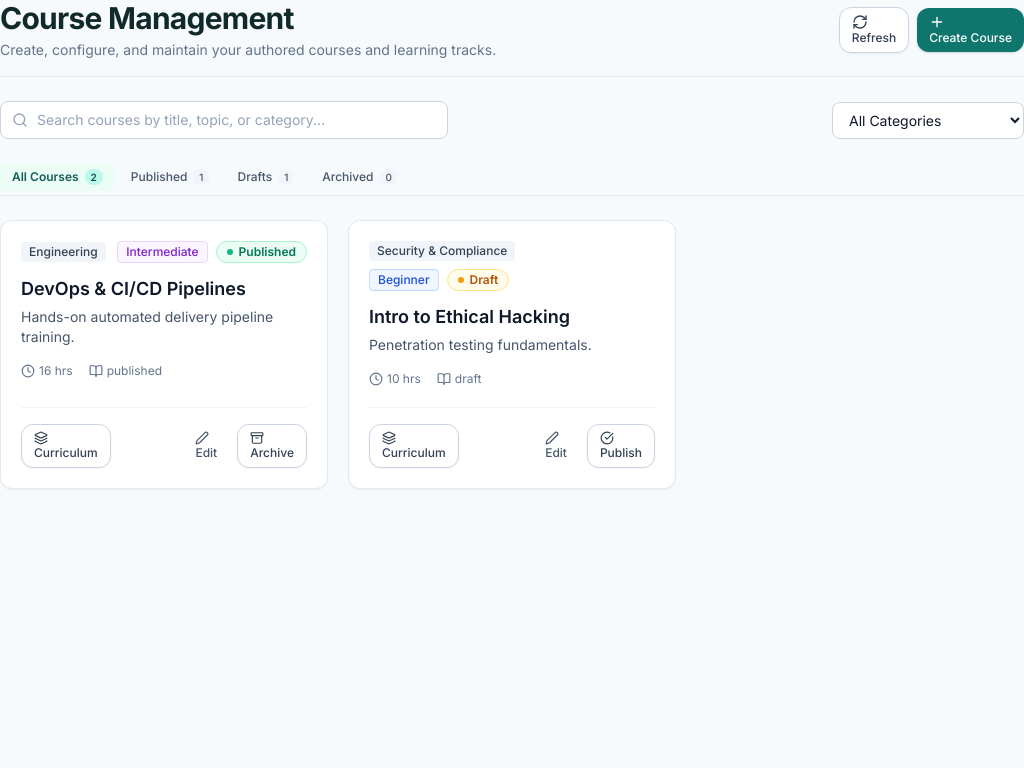
Test: TrainerCoursesPage › opens create course modal and submits a new course
Expected: the heading "DevOps & CI/CD Pipelines" is shown, [21,278,246,299]
Click the button "Create Course" at (971, 30), box [917,8,1023,52]
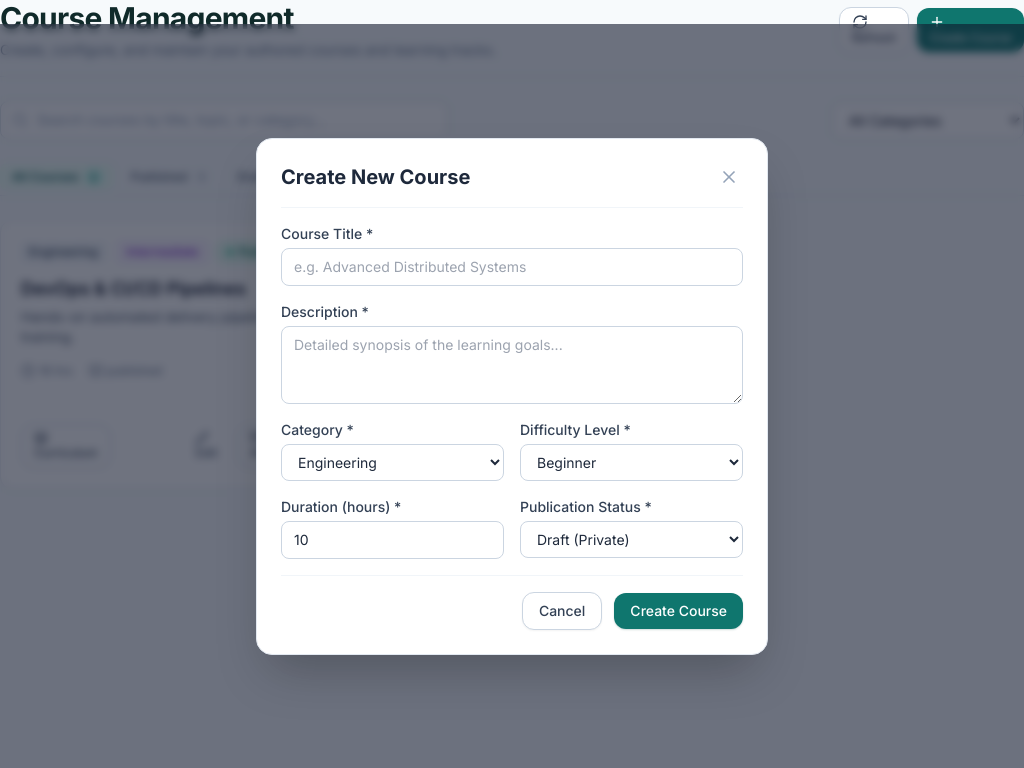
Expected: the dialog is shown
Type "Kubernetes Mastery" into the field labelled "Course Title *" at (512, 266), box [281,248,743,286]
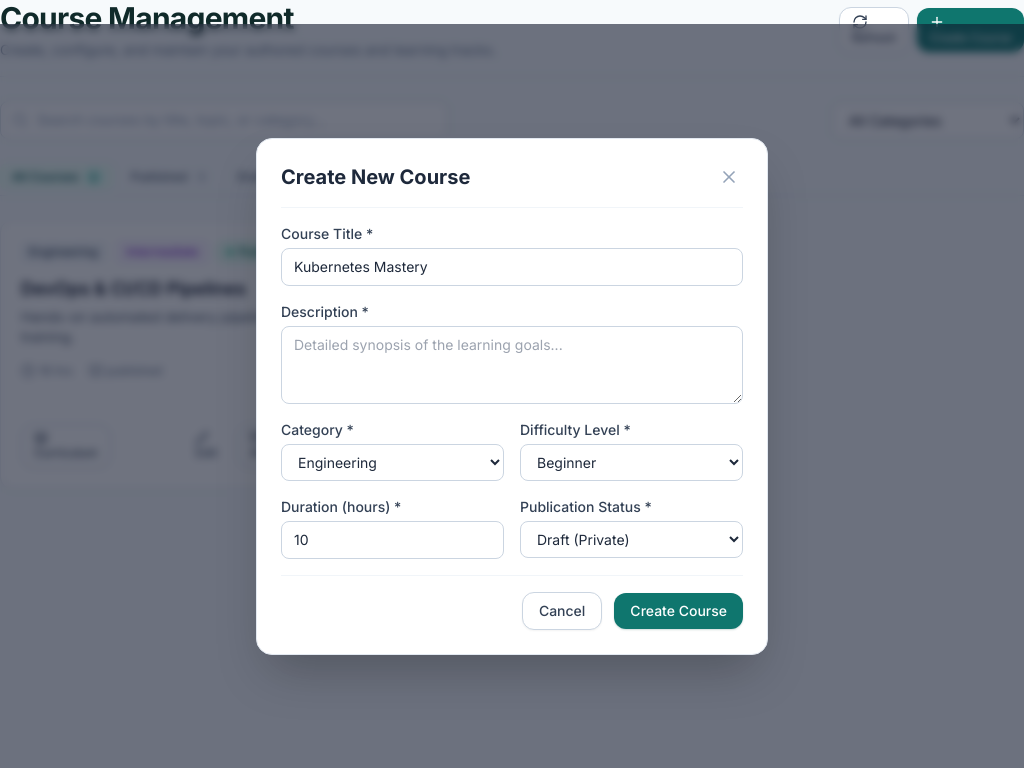
Type "Production cluster management." into the text box labelled "Description *" at (512, 364), box [281,326,743,404]
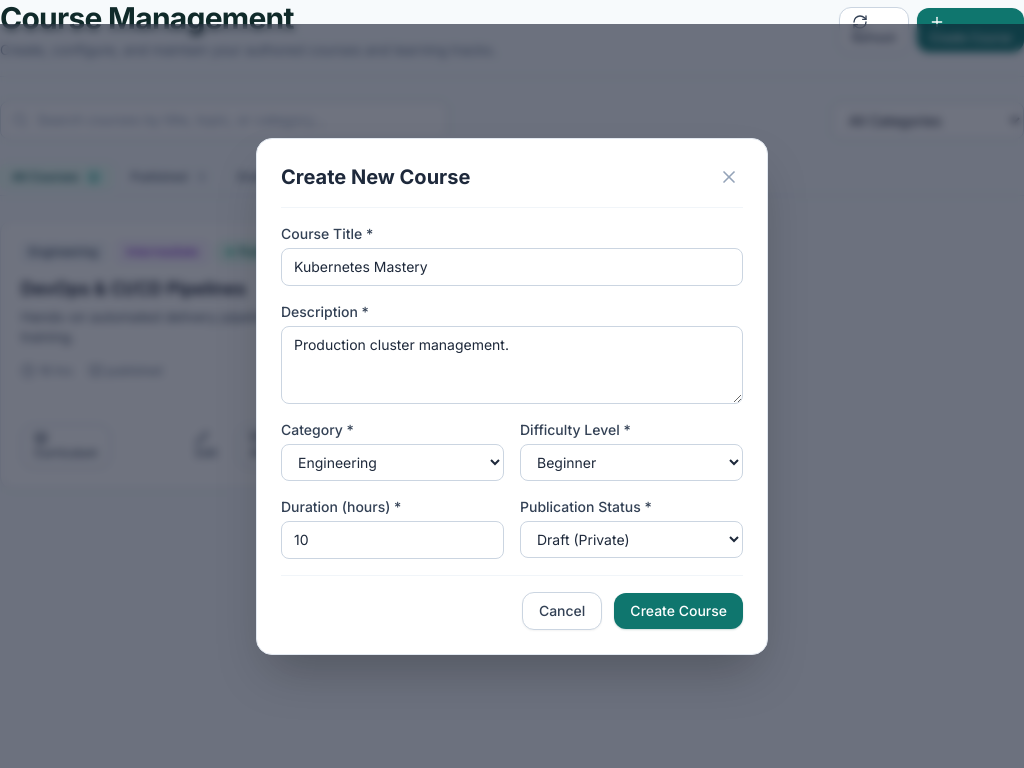
Replace the text in the number field labelled "Duration (hours) *" with "20" at (392, 540), box [281,520,504,558]
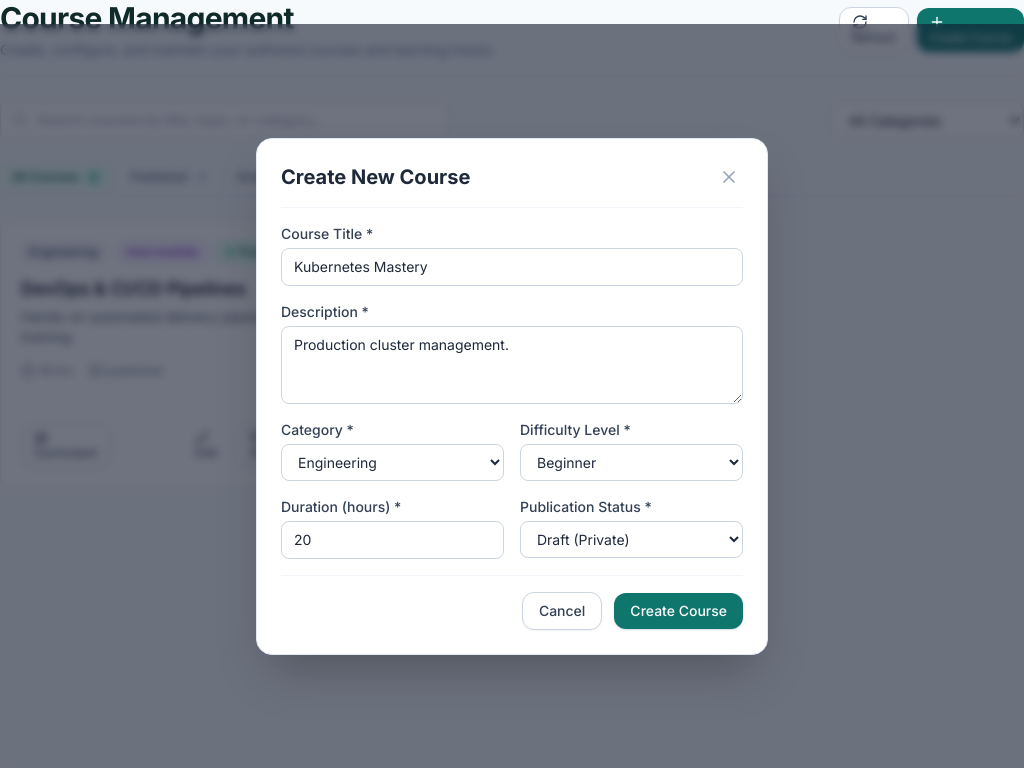
Click the button "Create Course" at (679, 610), box [614,592,743,628]
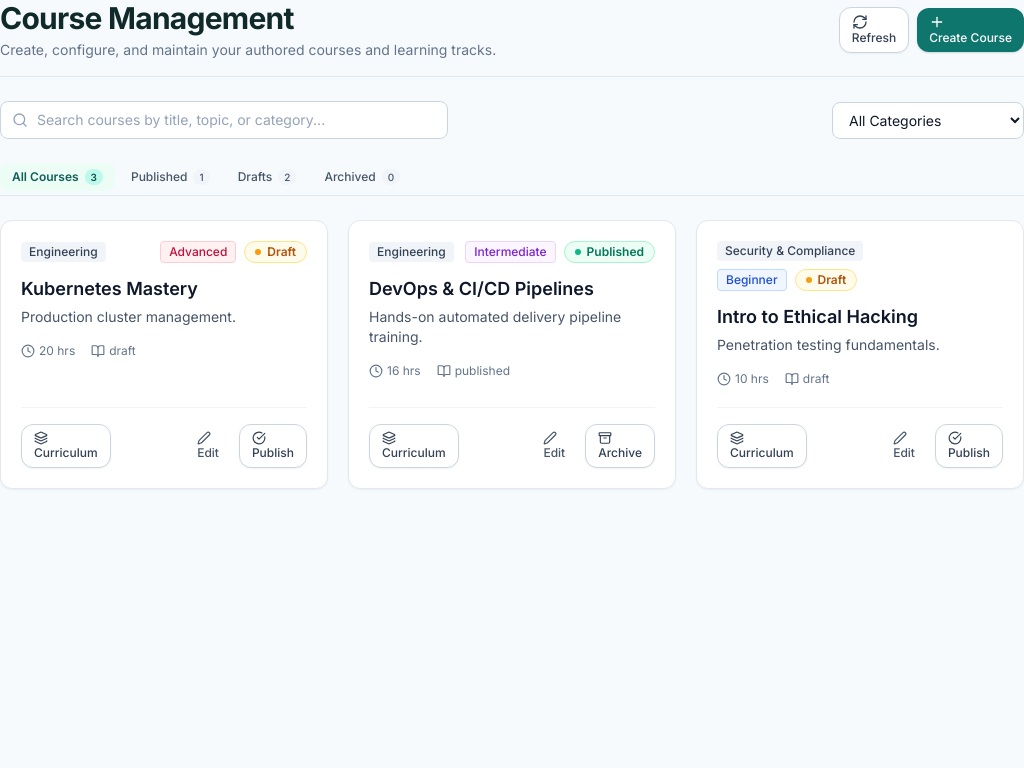
Expected: the heading "Kubernetes Mastery" is shown, [21,278,198,299]
